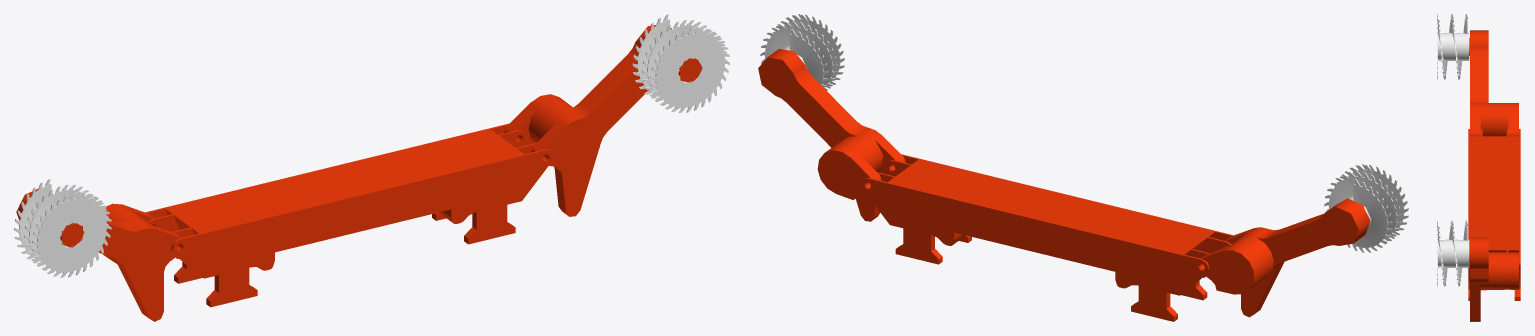
The model's file is caimeiji.FBX.
3 views of the same model, side by side, from view 1: azimuth 30°, elevation 25°; view 2: azimuth 150°, elevation 25°; view 3: azimuth 270°, elevation 25° (orthographic). The views are drawn at different scales.
Visible parts, largest first — view 1: 1, 3, 4, 5, 2; view 2: 1, 3, 2, 4, 5; view 3: 1, 2, 3, 5, 4.
Boxes of the visible parts, x1=… form: 1: x1=145, y1=123, x2=553, y2=307; 3: x1=504, y1=25, x2=701, y2=216; 4: x1=14, y1=179, x2=111, y2=277; 5: x1=632, y1=14, x2=729, y2=112; 2: x1=16, y1=189, x2=182, y2=321; 1: x1=861, y1=154, x2=1233, y2=321; 3: x1=758, y1=49, x2=905, y2=221; 2: x1=1199, y1=198, x2=1370, y2=317; 4: x1=1324, y1=164, x2=1408, y2=252; 5: x1=760, y1=14, x2=844, y2=90; 1: x1=1468, y1=129, x2=1520, y2=300; 2: x1=1469, y1=30, x2=1518, y2=136; 3: x1=1469, y1=237, x2=1518, y2=321; 5: x1=1437, y1=220, x2=1469, y2=286; 4: x1=1437, y1=14, x2=1469, y2=79.
Size of the model in its own units: 3251 by 821 by 470.
